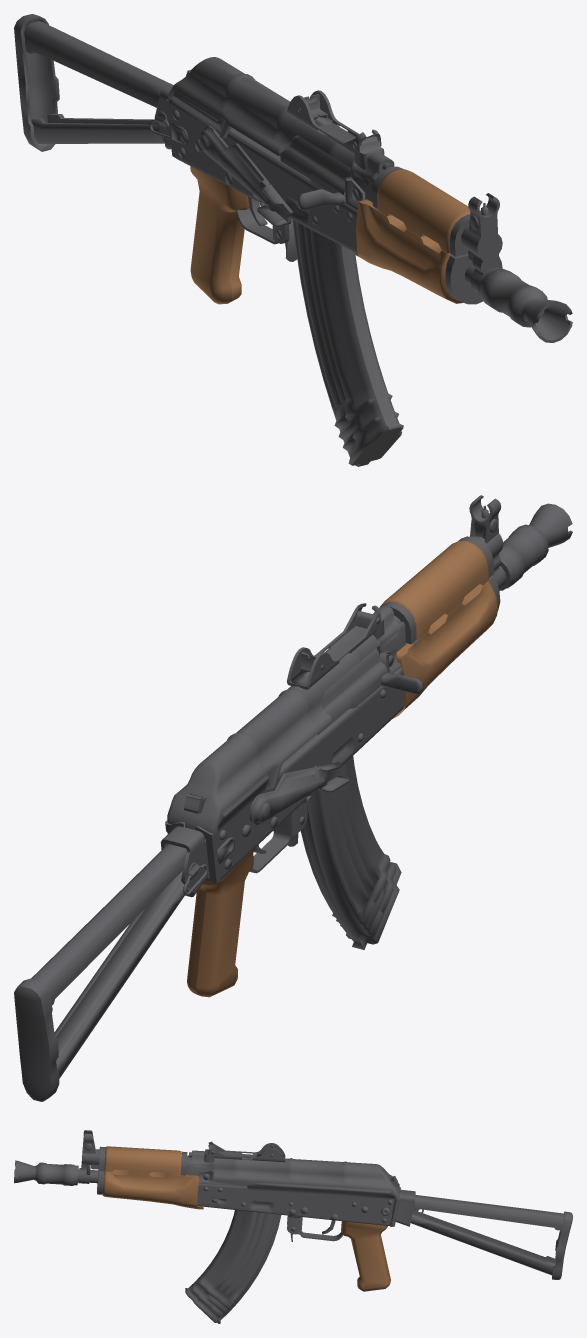
The picture shows the model from 3 angles, top to bottom: view 1: azimuth 30°, elevation 25°; view 2: azimuth 150°, elevation 25°; view 3: azimuth 270°, elevation 25°; orthographic projection. The views are drawn at different scales.
Visible parts, largest first — view 1: Body_aks74u, Body_aks74u.wood, Magazine; view 2: Body_aks74u, Body_aks74u.wood, Magazine; view 3: Body_aks74u, Body_aks74u.wood, Magazine.
Part boxes in pixels (x1,y1,x2,y2): Body_aks74u: (14,14,572,342); Body_aks74u.wood: (190,166,470,304); Magazine: (292,220,403,466); Body_aks74u: (14,495,572,1101); Body_aks74u.wood: (187,540,498,997); Magazine: (300,756,401,949); Body_aks74u: (14,1130,572,1279); Body_aks74u.wood: (102,1146,390,1291); Magazine: (185,1210,281,1323).
Size of the model in its own units: 0.0736 by 0.274 by 0.73.
